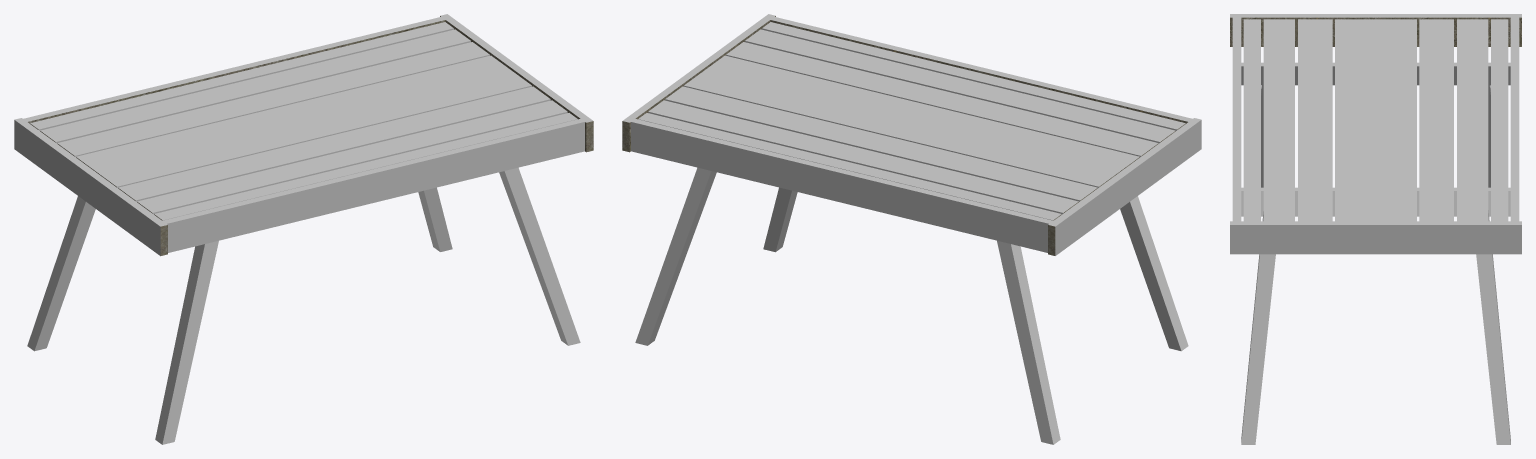
Rendered from TableB.fbx.
The picture shows the model from 3 angles, left to right: view 1: azimuth 30°, elevation 25°; view 2: azimuth 150°, elevation 25°; view 3: azimuth 270°, elevation 25°; orthographic projection.
Visible parts, largest first — view 1: TableB; view 2: TableB; view 3: TableB.
Part boxes in pixels (<box>): TableB: <box>14,14,593,444</box>; TableB: <box>622,14,1201,444</box>; TableB: <box>1230,14,1521,444</box>.
Bounding box in the file's own units: 185 × 91.31 × 108.
